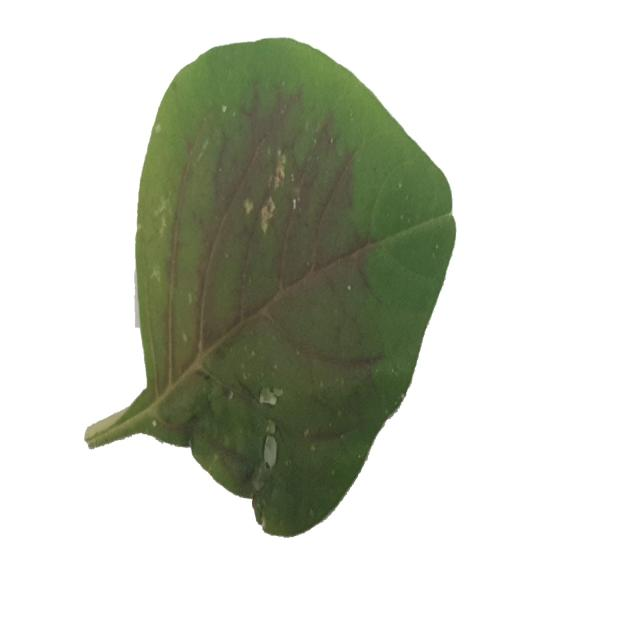Medicinal-Arive Dantu: (85, 36, 458, 538)
